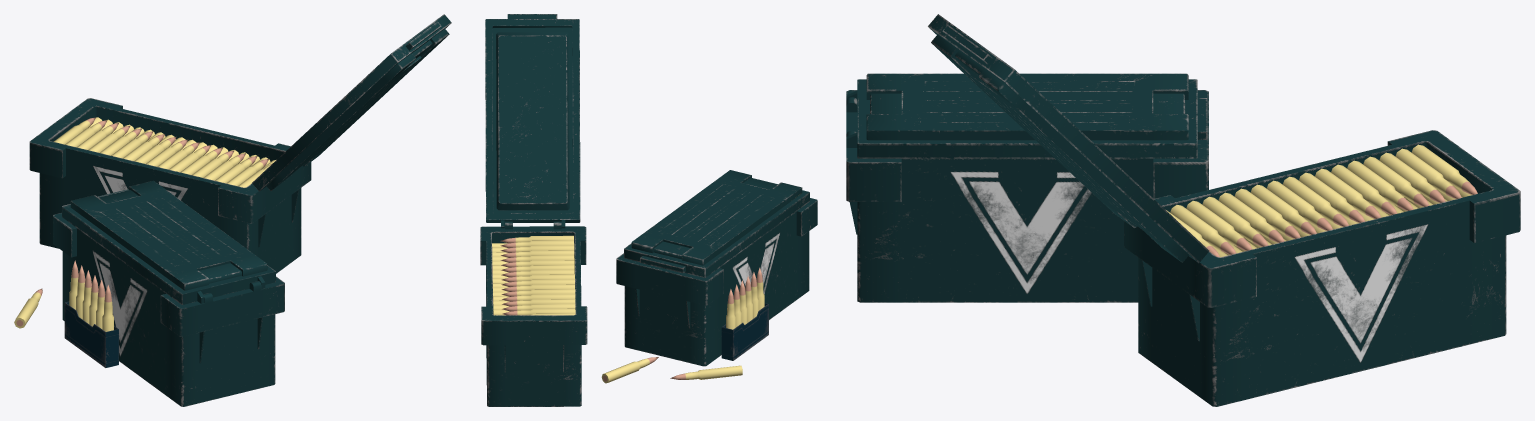
The picture shows the model from 3 angles, left to right: view 1: azimuth 30°, elevation 25°; view 2: azimuth 150°, elevation 25°; view 3: azimuth 270°, elevation 25°; orthographic projection. The views are drawn at different scales.
Parts seen in each view (by area): view 1: BoxBase_low, BoxBase_low.001, BoxLid_low, BoxLid_low.001, Bullet_low.004, Bullet_low.005, BCase_low, Bullet_low.009, Bullet_low.007; view 2: BoxLid_low.001, BoxBase_low, BoxBase_low.001, BoxLid_low, Bullet_low.004, Bullet_low.005, BCase_low, Bullet_low.009, Bullet_low.007, Bullet_low.006; view 3: BoxBase_low.001, BoxBase_low, BoxLid_low, Bullet_low.004, BoxLid_low.001, Bullet_low.009.
Part boxes in pixels (box(x1,y1,x2,y2)): BoxBase_low: box(53, 213, 284, 406); BoxBase_low.001: box(29, 98, 311, 273); BoxLid_low: box(62, 180, 275, 304); BoxLid_low.001: box(252, 14, 451, 191); Bullet_low.004: box(53, 117, 271, 187); Bullet_low.005: box(69, 260, 113, 331); BCase_low: box(64, 301, 118, 367); Bullet_low.009: box(89, 117, 275, 169); Bullet_low.007: box(14, 288, 42, 328); BoxLid_low.001: box(485, 14, 580, 228); BoxBase_low: box(616, 198, 817, 366); BoxBase_low.001: box(480, 221, 587, 406); BoxLid_low: box(624, 170, 809, 277); Bullet_low.004: box(500, 235, 575, 315); Bullet_low.005: box(726, 267, 764, 329); BCase_low: box(721, 303, 768, 360); Bullet_low.009: box(492, 243, 509, 315); Bullet_low.007: box(670, 365, 742, 379); Bullet_low.006: box(601, 357, 658, 383); BoxBase_low.001: box(1124, 130, 1520, 406); BoxBase_low: box(846, 90, 1208, 302); BoxLid_low: box(846, 73, 1207, 158); Bullet_low.004: box(1166, 144, 1477, 257); BoxLid_low.001: box(928, 14, 1209, 262); Bullet_low.009: box(1211, 185, 1472, 257).
Size of the model in its own units: 0.8221 by 0.6011 by 0.9286.
Materials: 1 (1 with a texture image).
